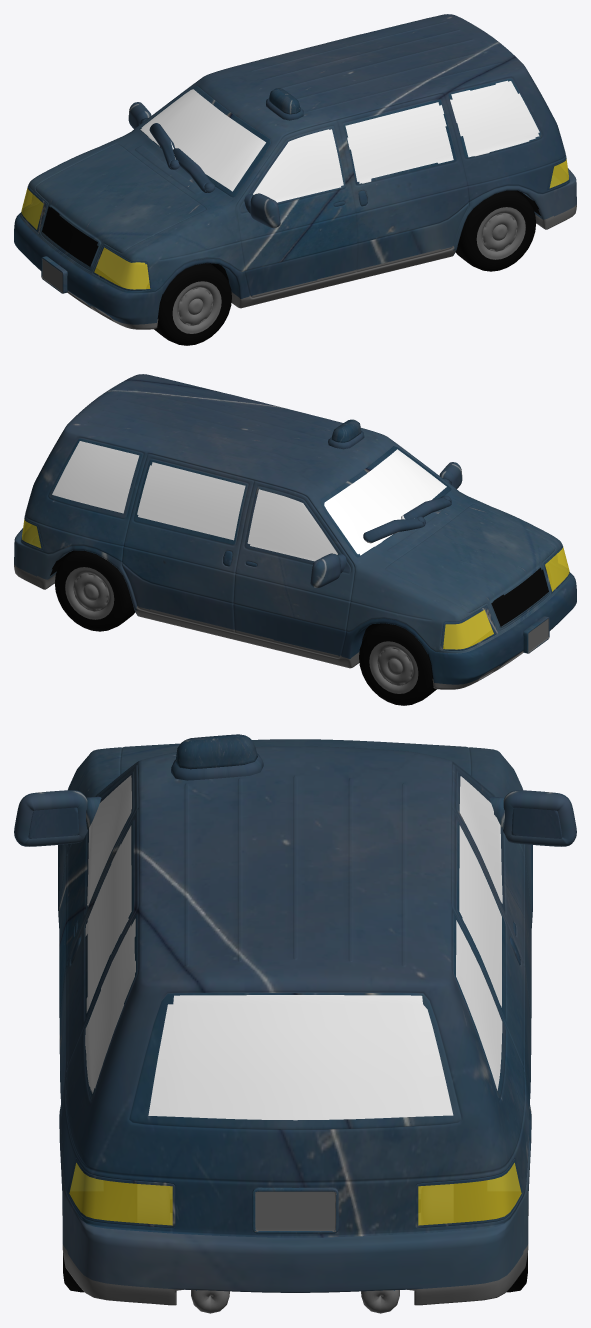
File: 18577_Van_Taxi_v1_NEW.glb
3 views of the same model, one above another, from view 1: azimuth 30°, elevation 25°; view 2: azimuth 150°, elevation 25°; view 3: azimuth 270°, elevation 25° (orthographic). The views are drawn at different scales.
Visible parts, largest first — view 1: 18577_Van_Taxi_v1_NEW; view 2: 18577_Van_Taxi_v1_NEW; view 3: 18577_Van_Taxi_v1_NEW.
Part boxes in pixels (left/top/right/bottom): 18577_Van_Taxi_v1_NEW: left=14, top=14, right=576, bottom=345; 18577_Van_Taxi_v1_NEW: left=14, top=374, right=576, bottom=705; 18577_Van_Taxi_v1_NEW: left=14, top=734, right=576, bottom=1313.
Size of the model in its own units: 10.06 by 3.83 by 5.16.
5 materials, 1 textured.
